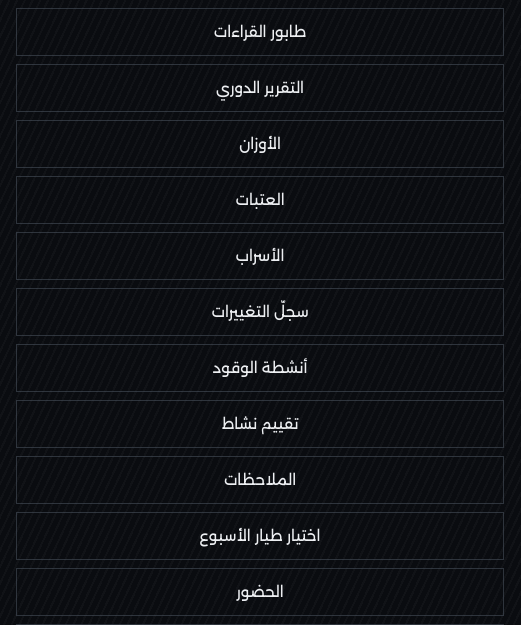
Test case: أنشطة الوقود — و-٨ › تعرض الأنشطة القائمة وبنودها
(page scrolled)
Click the button "أنشطة الوقود": (260, 368) x1=16 y1=344 x2=504 y2=392
(page scrolled)
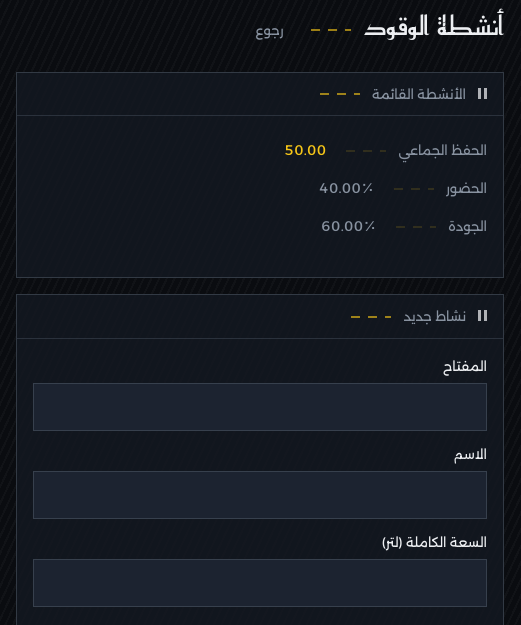
Expected: the text "الحضور" is shown, x1=446 y1=177 x2=487 y2=199
Result: the text "40.00٪" is shown at x1=319 y1=177 x2=374 y2=201
